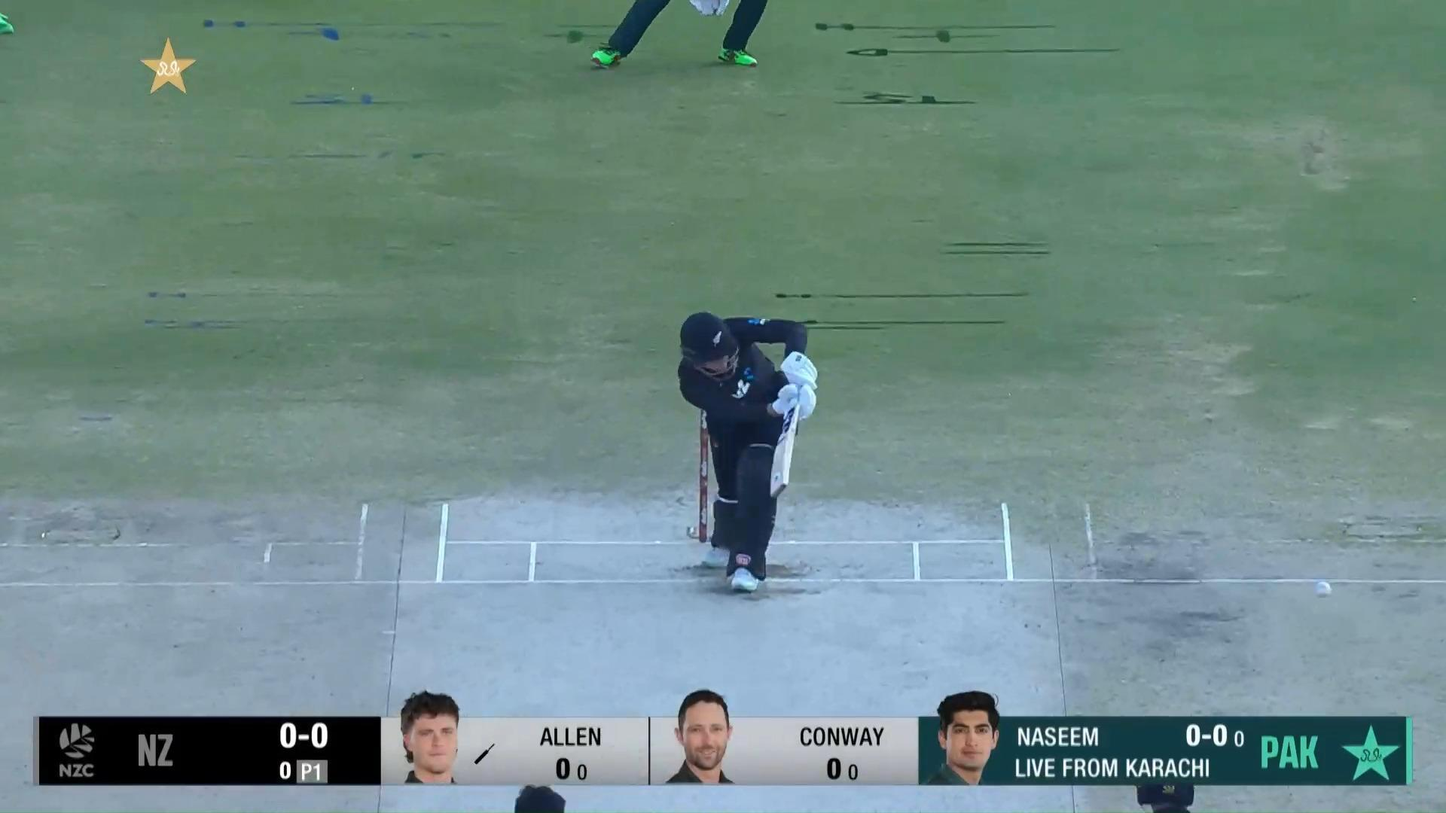BM 1: (676, 309, 821, 595)
BO: (515, 785, 567, 813)
